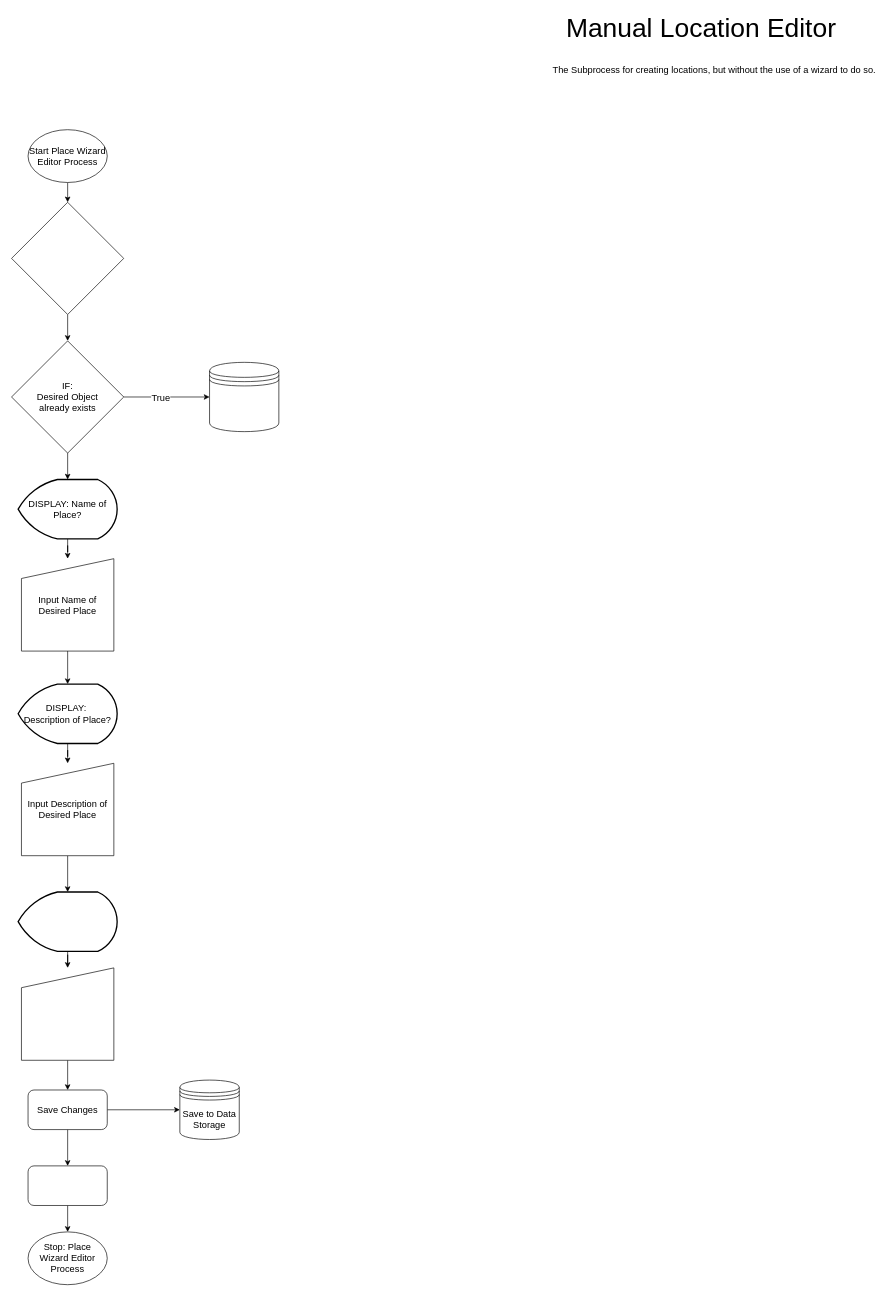
Some shapes in this 894 by 1296 pixel diagram are drawn without their labels. Each missing label, with the centre of its shape:
"DISPLAY: Contents of Place?" belongs at point 67,921.
"Input Contents of Desired Place" belongs at point 67,1013.
"Open From Data Storage" belongs at point 244,397.
"Save to Device using File Dialog" belongs at point 67,1185.
"Select Desired Object" belongs at point 67,258.
